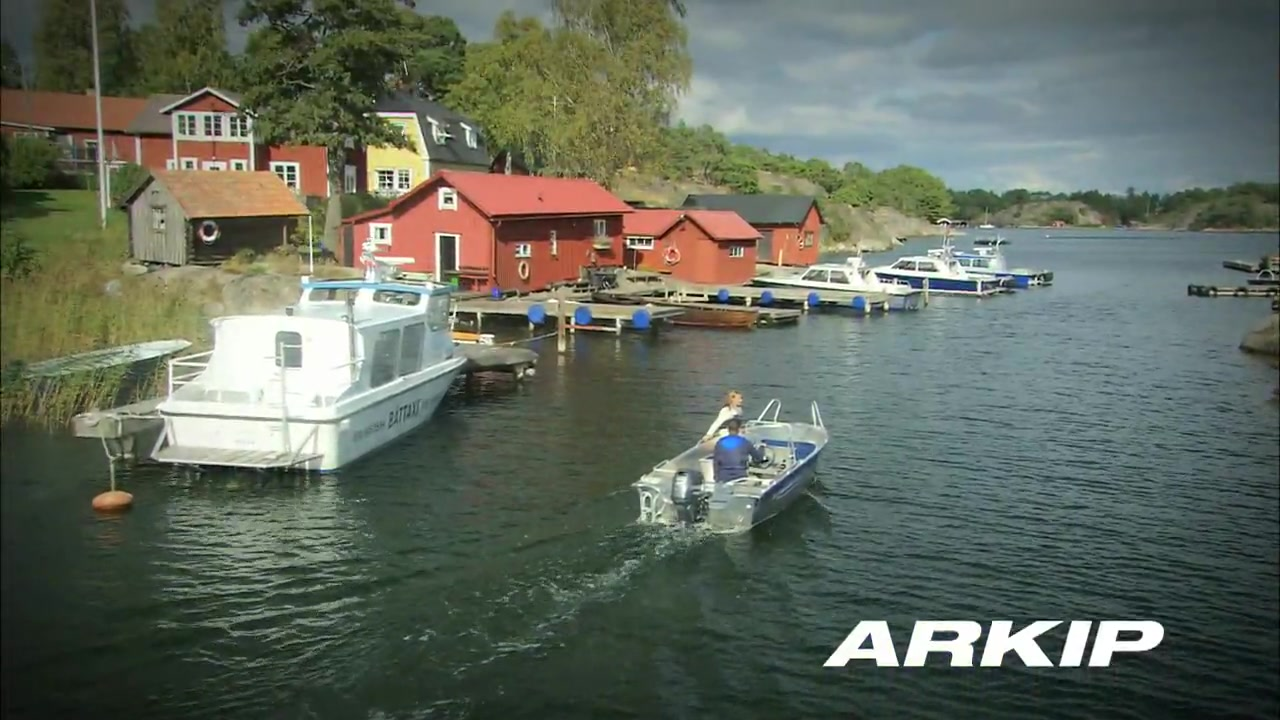boat: (631, 398, 831, 538)
